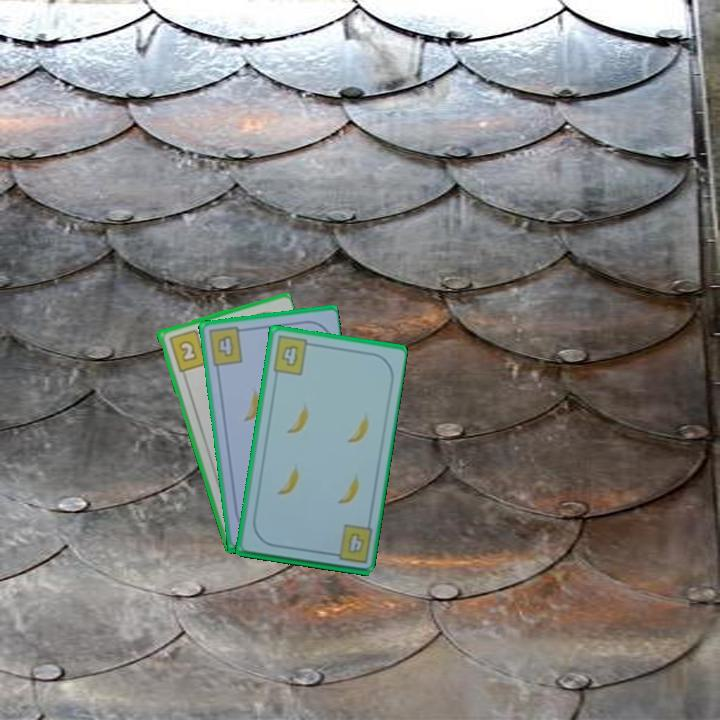2b: (165, 326, 209, 374)
4b: (326, 521, 375, 566), (269, 332, 316, 378), (204, 324, 248, 369)
